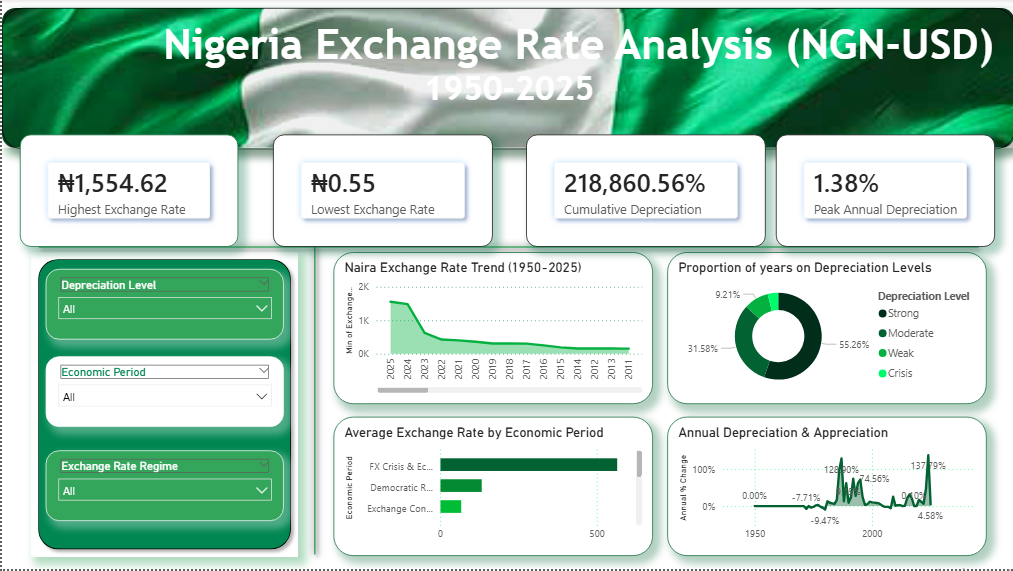

Layout of this report page (visuals, bound fields, positions):
{"tool":"powerbi","page":{"name":"Page 1","canvas":[1280,720],"ordinal":0},"visuals":[{"type":"shape","box":[37.5,319.2,337.2,384.4],"z":0},{"type":"donutChart","title":"Proportion of years on Depreciation Levels","fields":{"Category":["Cleaned Data (2).Depreciation Level"],"Y":["Count(Cleaned Data (2).Year)"]},"box":[840.4,319.2,403.9,192.2],"z":1000},{"type":"lineChart","title":"Naira Exchange Rate Trend (1950-2025)","fields":{"Category":["Cleaned Data (2).Year"],"Y":["Min(Cleaned Data (2).Exchange Rate (NGN-USD))"]},"box":[418.6,319.2,403.9,192.2],"z":2000},{"type":"clusteredBarChart","title":"Average Exchange Rate by Economic Period","fields":{"Category":["Cleaned Data (2).Economic Period"],"Y":["Avg(Cleaned Data (2).Exchange Rate (NGN-USD))"]},"box":[418.6,527.7,403.9,175.9],"z":3000},{"type":"areaChart","title":"Annual Depreciation & Appreciation","fields":{"Category":["Cleaned Data (2).Year"],"Y":["Avg(Cleaned Data (2).Annual % Change)"]},"box":[840.4,527.7,403.9,175.9],"z":4000},{"type":"shape","box":[219.9,301.3,351.8,410.4],"z":5000},{"type":"shape","box":[37.5,254.1,1206.9,117.3],"z":6000},{"type":"slicer","fields":{"Values":["Cleaned Data (2).Depreciation Level"]},"box":[55.4,340.4,301.3,89.6],"z":7000},{"type":"slicer","fields":{"Values":["Cleaned Data (2).Exchange Rate Regime"]},"box":[55.4,570.1,301.3,89.6],"z":8000},{"type":"slicer","fields":{"Values":["Cleaned Data (2).Economic Period"]},"box":[55.4,451.2,301.3,89.6],"z":9000},{"type":"image","box":[0,11.3,1279.4,176.9],"z":10000},{"type":"textbox","box":[0,11.3,1280.8,178.3],"z":11000},{"type":"cardVisual","fields":{"Data":["Cleaned Data (2).Highest Exchange Rate"]},"box":[22.6,171.2,276,141.5],"z":12000},{"type":"cardVisual","fields":{"Data":["Cleaned Data (2).Lowest Exchange Rate"]},"box":[342.5,171.2,277.4,141.5],"z":13000},{"type":"cardVisual","fields":{"Data":["Cleaned Data (2).Cumulative Depreciation"]},"box":[662.3,171.2,302.9,141.5],"z":14000},{"type":"cardVisual","fields":{"Data":["Cleaned Data (2).Peak Annual Depreciation"]},"box":[977.5,171.2,276.9,141.7],"z":15000}]}

Visuals, with their boxes in screenshot pixels (x1, y1, x2, y2), scaled from the page's 1280x720 canvas onto the 1013x571 screenshot:
shape: Rect(30, 253, 297, 558)
"Proportion of years on Depreciation Levels" donutChart: Rect(665, 253, 985, 406)
"Naira Exchange Rate Trend (1950-2025)" lineChart: Rect(331, 253, 651, 406)
"Average Exchange Rate by Economic Period" clusteredBarChart: Rect(331, 418, 651, 558)
"Annual Depreciation & Appreciation" areaChart: Rect(665, 418, 985, 558)
shape: Rect(174, 239, 452, 564)
shape: Rect(30, 202, 985, 295)
slicer - Cleaned Data (2).Depreciation Level: Rect(44, 270, 282, 341)
slicer - Cleaned Data (2).Exchange Rate Regime: Rect(44, 452, 282, 523)
slicer - Cleaned Data (2).Economic Period: Rect(44, 358, 282, 429)
image: Rect(0, 9, 1012, 149)
textbox: Rect(0, 9, 1012, 150)
cardVisual - Cleaned Data (2).Highest Exchange Rate: Rect(18, 136, 236, 248)
cardVisual - Cleaned Data (2).Lowest Exchange Rate: Rect(271, 136, 491, 248)
cardVisual - Cleaned Data (2).Cumulative Depreciation: Rect(524, 136, 764, 248)
cardVisual - Cleaned Data (2).Peak Annual Depreciation: Rect(774, 136, 993, 248)
